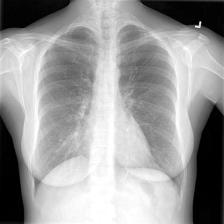normal: (22, 24, 189, 205)
